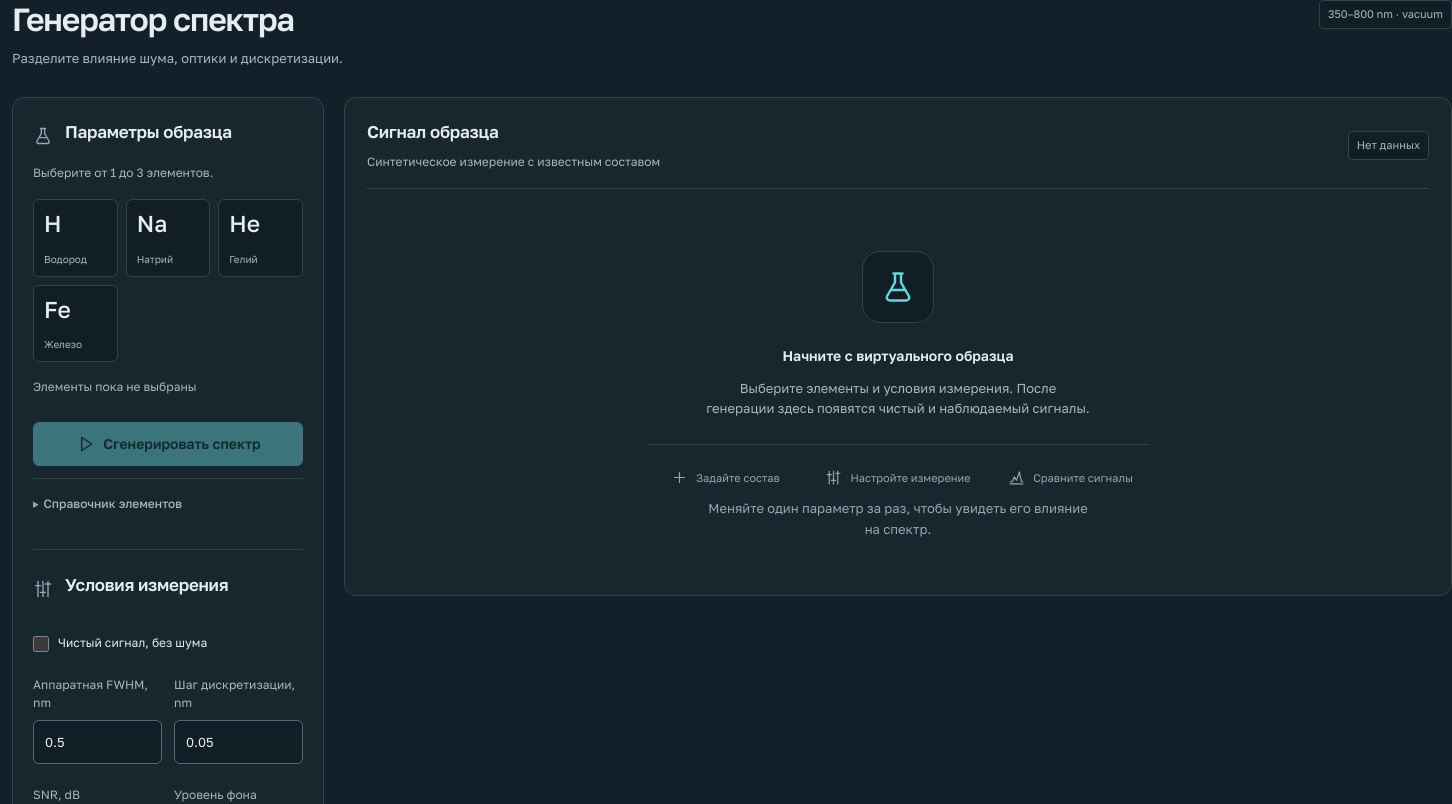
generator preserves truth separately and exposes analysis link
Click the button with aria-label "H · стадия 1": (75, 238) [33,199,118,276]
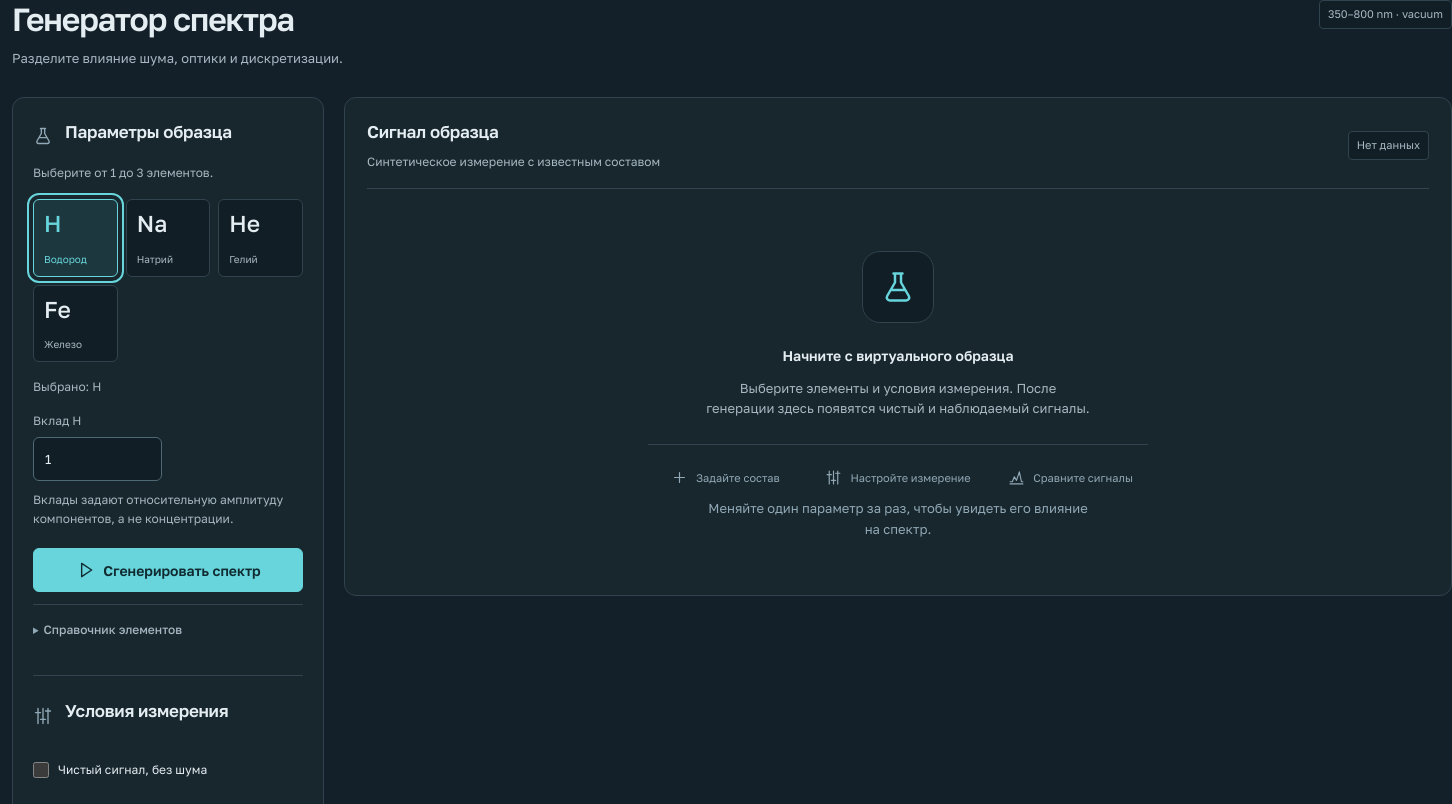
Click the button "Сгенерировать спектр": (168, 570) [33,548,303,592]
(page scrolled)
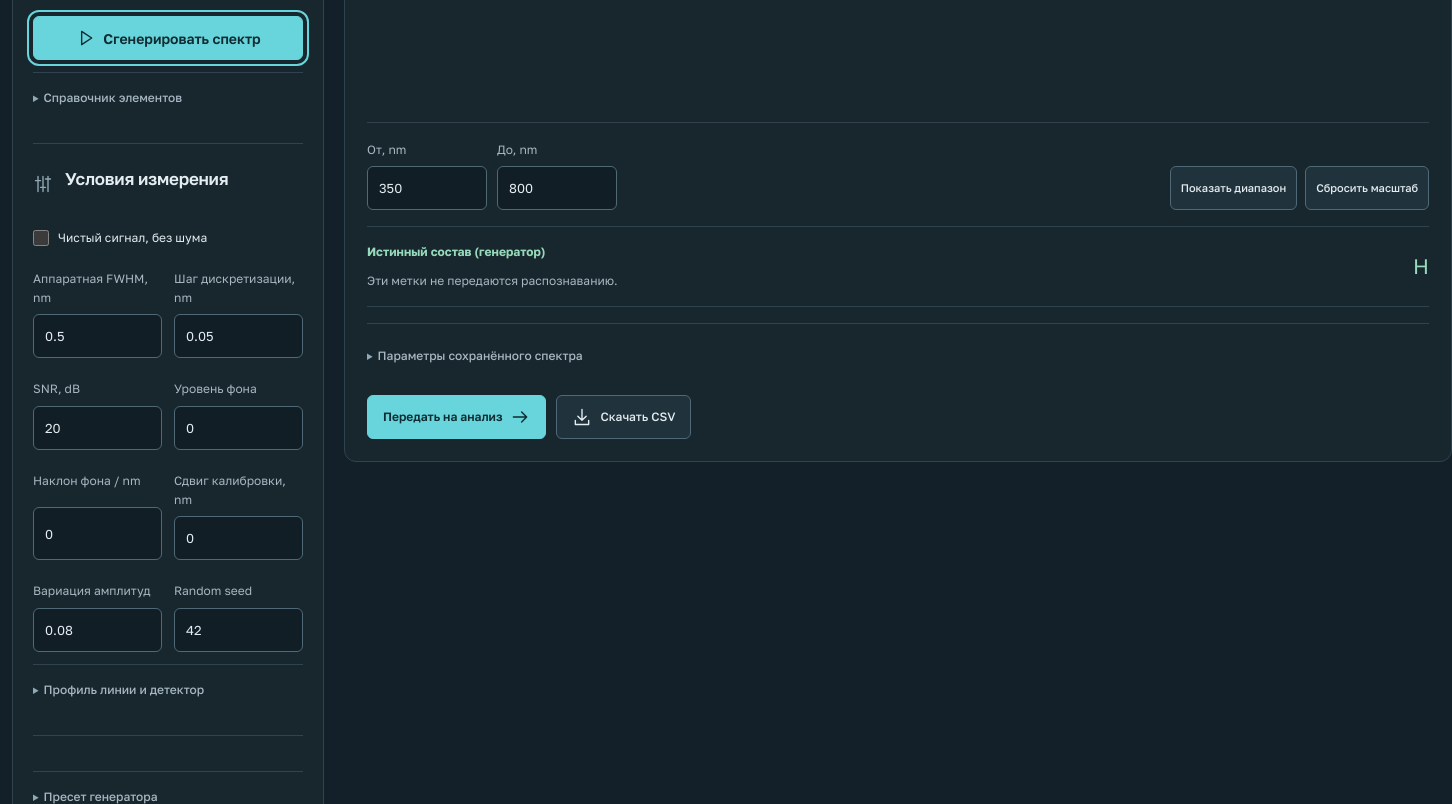
Result: the text "Истинный состав (генератор)" is shown at [367,244,545,259]
